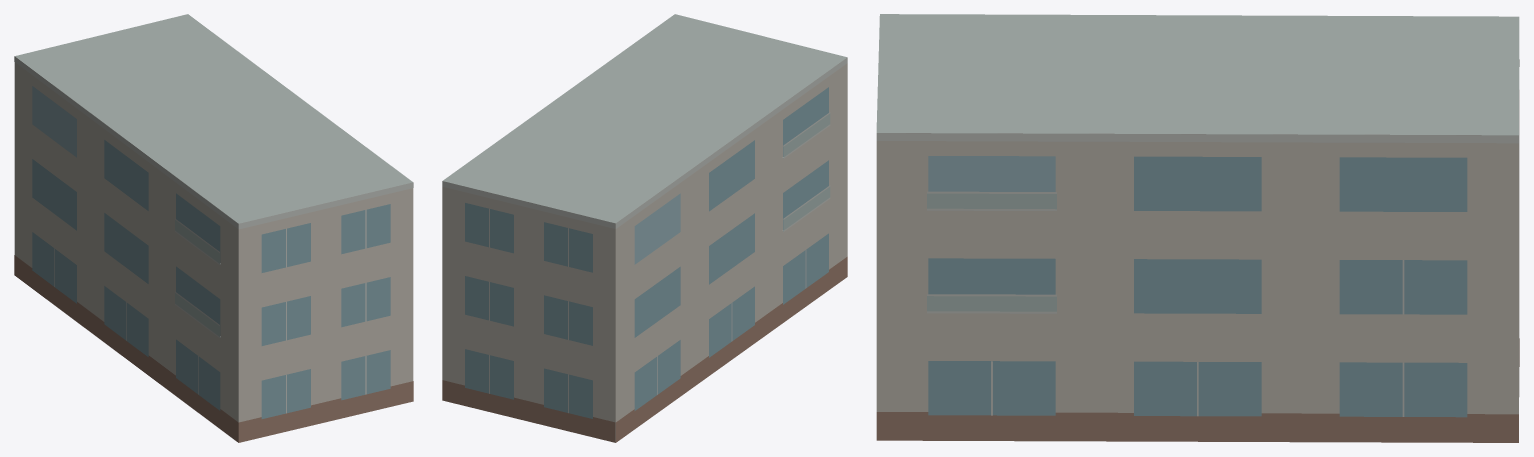
File: survey-upis-32909034.glb
The picture shows the model from 3 angles, left to right: view 1: azimuth 30°, elevation 25°; view 2: azimuth 150°, elevation 25°; view 3: azimuth 270°, elevation 25°; orthographic projection. The views are drawn at different scales.
Visible parts, largest first — view 1: survey-upis-32909034.tmp; view 2: survey-upis-32909034.tmp; view 3: survey-upis-32909034.tmp.
Part boxes in pixels (left/top/right/bottom): survey-upis-32909034.tmp: left=14, top=14, right=413, bottom=442; survey-upis-32909034.tmp: left=442, top=14, right=847, bottom=442; survey-upis-32909034.tmp: left=876, top=14, right=1519, bottom=442.
Size of the model in its own units: 7.98 by 9.4 by 17.82.
